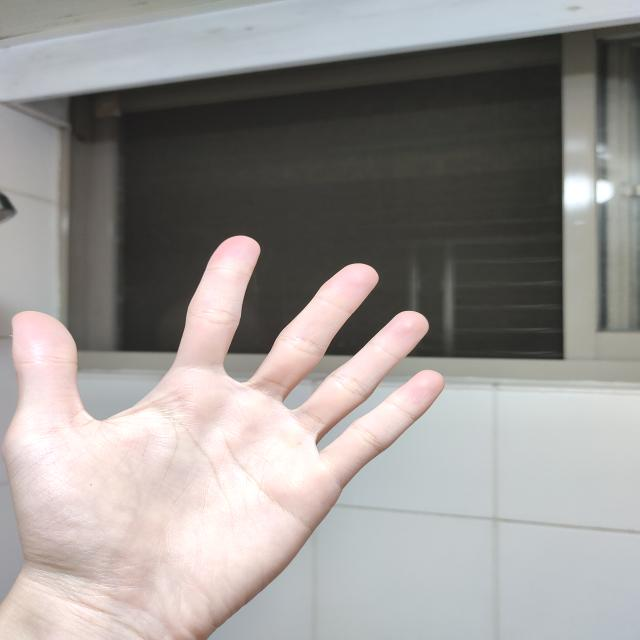no_glove: (0, 217, 458, 640)
